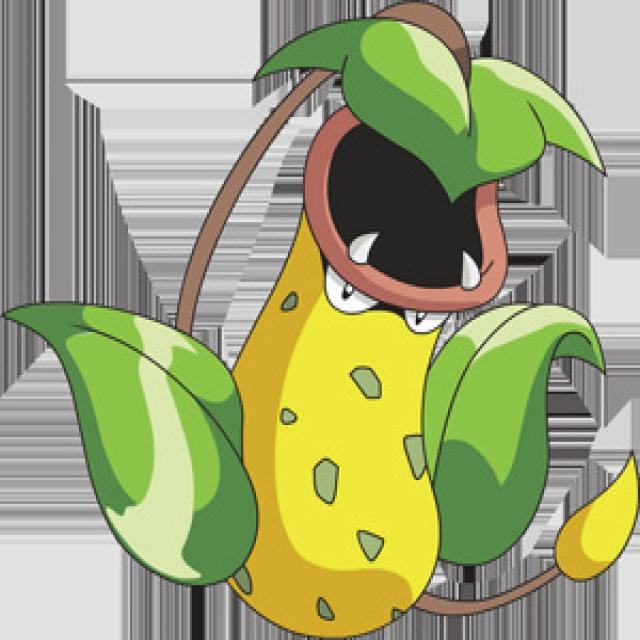Victreebel: (135, 70, 602, 621)
